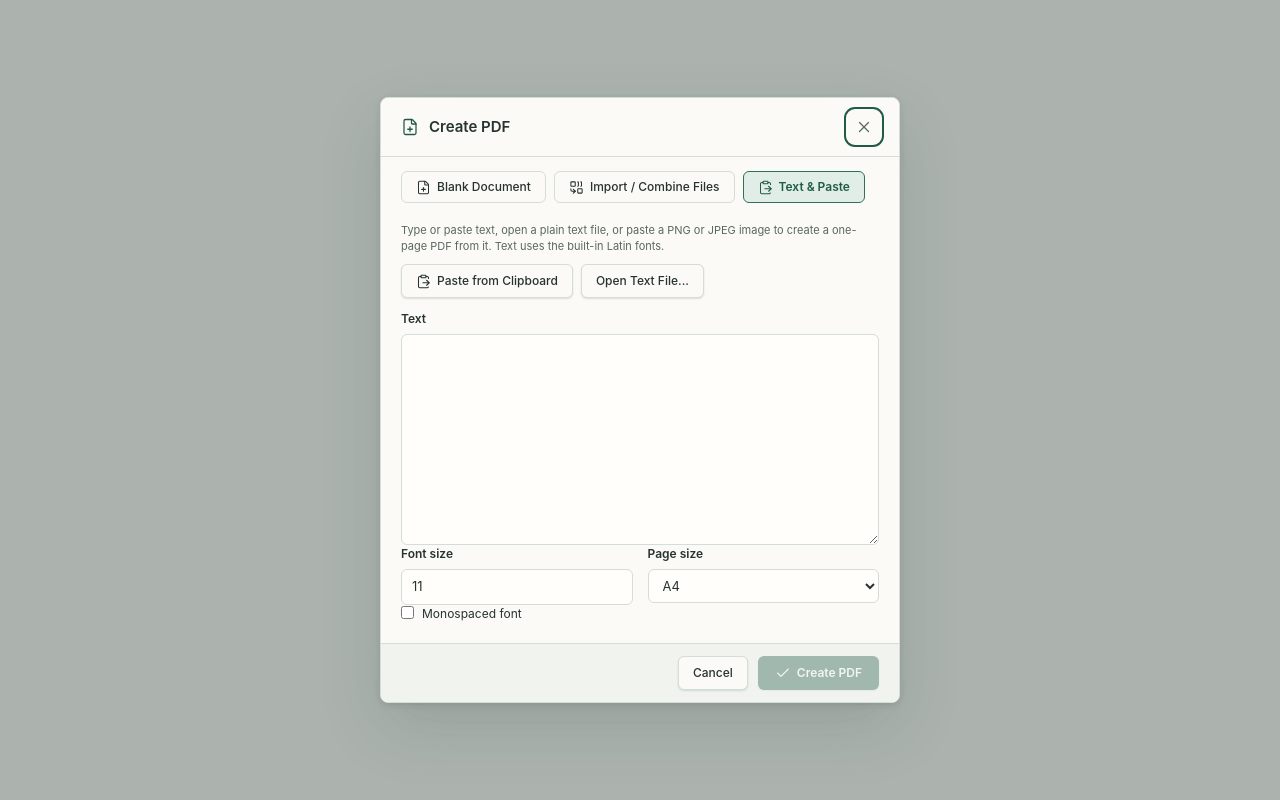
Test case: shows font coverage errors without creating anything
The image size is (1280, 800).
In the text box labelled "Text": (640, 440) [401,334,879,545], type "日本語"
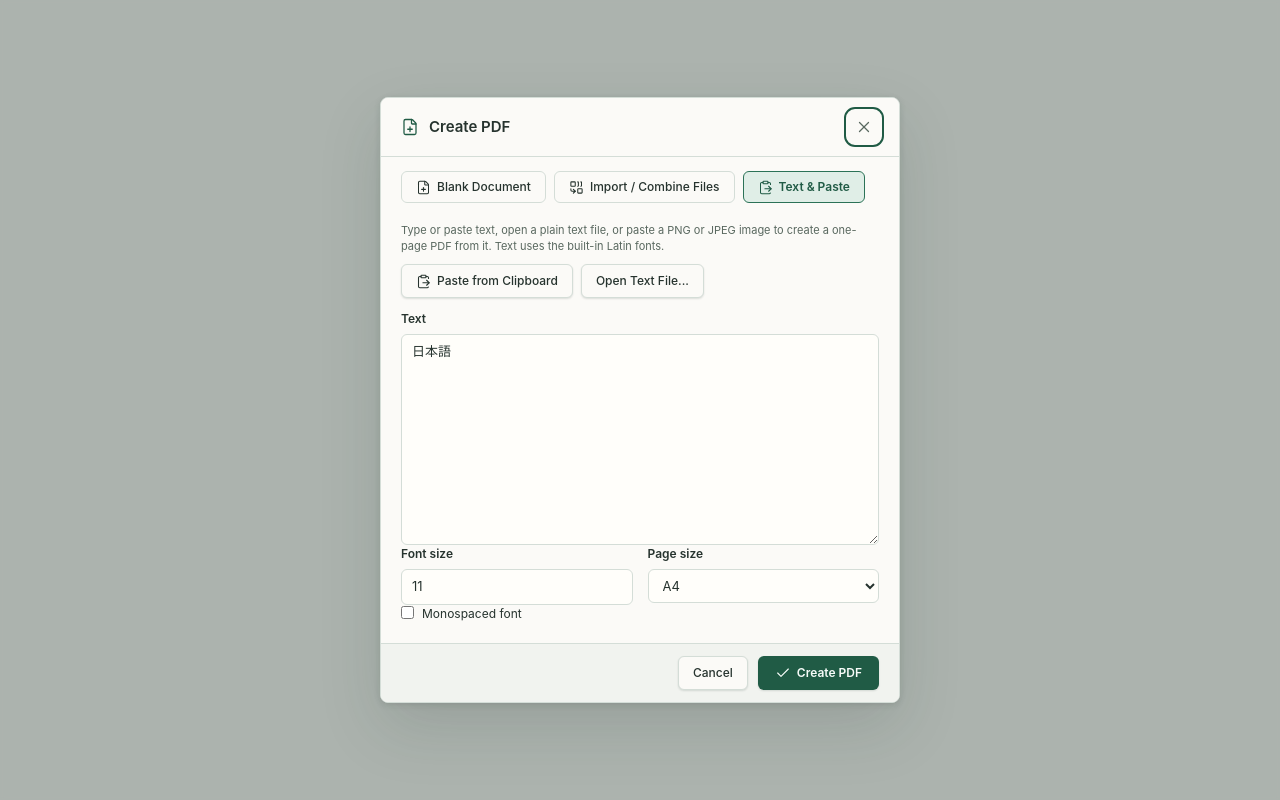
Click the button "Create PDF": (818, 673) [758,656,879,690]
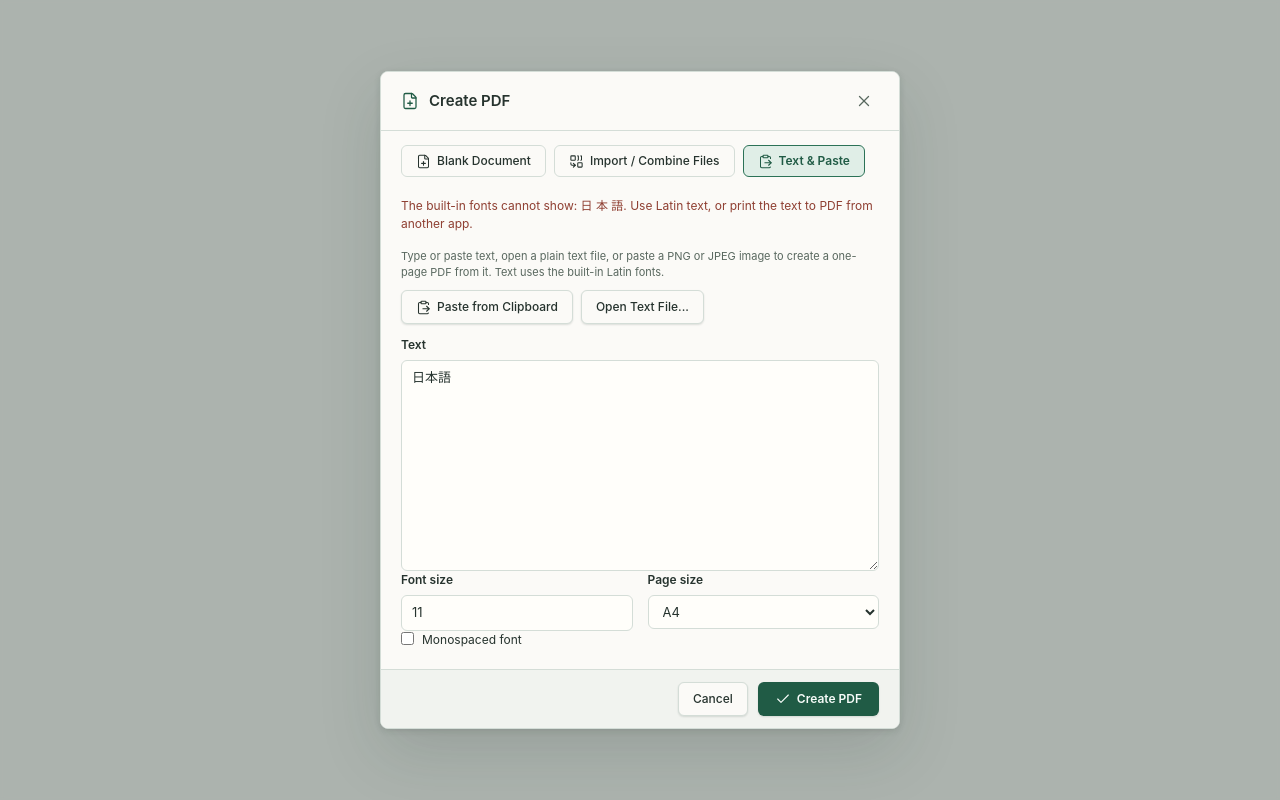
Expected: the text "cannot show" is shown, [401,198,873,231]
